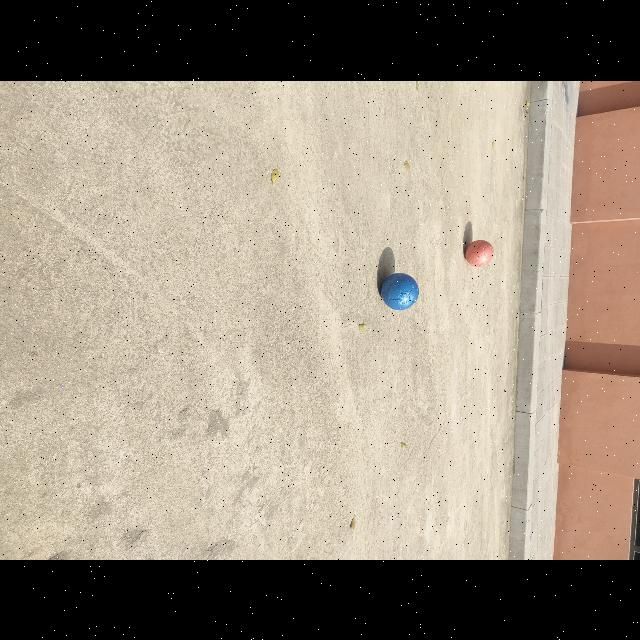B: (381, 272, 419, 311)
R: (465, 239, 494, 266)
